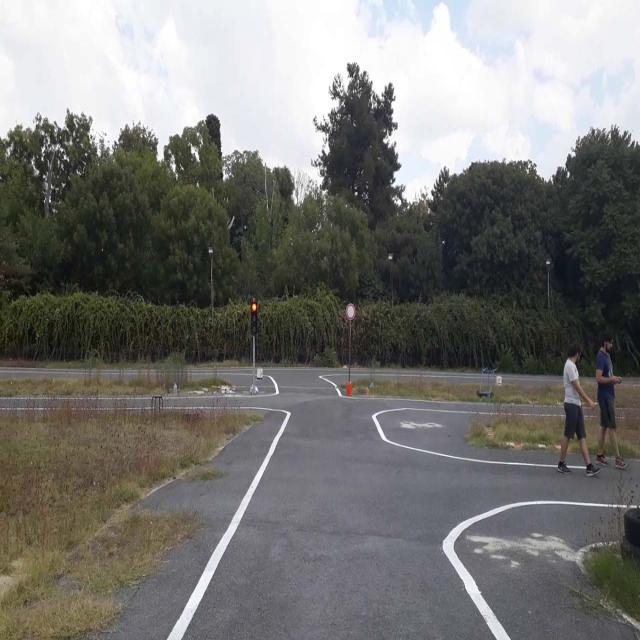kirmizi: (251, 302, 257, 334)
